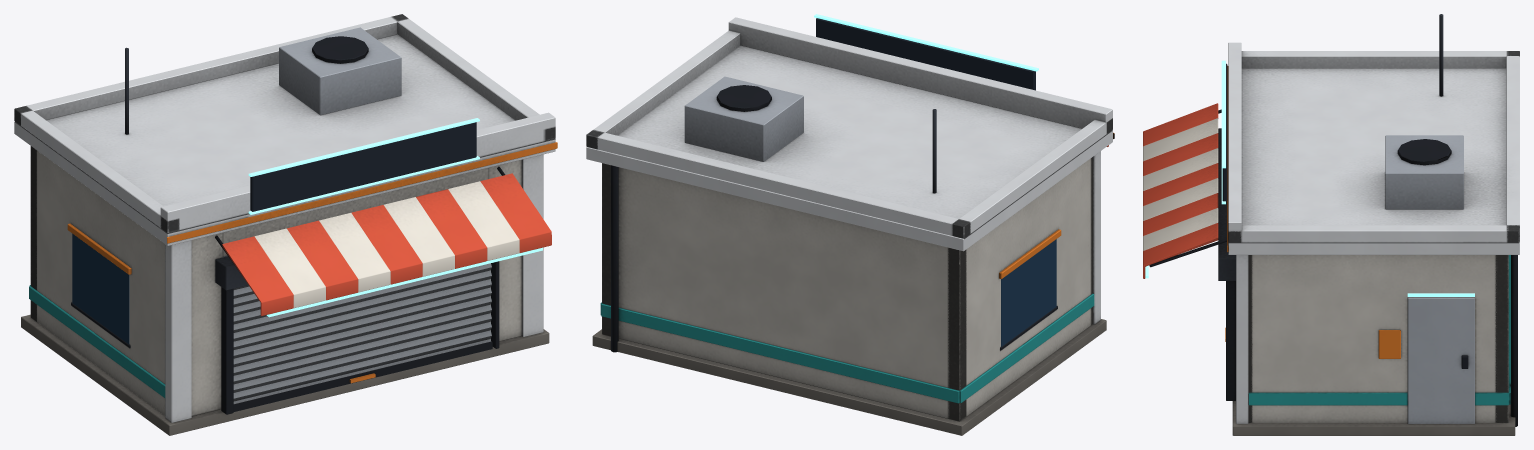
Rendered from Tienda.fbx.
3 views of the same model, side by side, from view 1: azimuth 30°, elevation 25°; view 2: azimuth 150°, elevation 25°; view 3: azimuth 270°, elevation 25° (orthographic). The views are drawn at different scales.
Visible parts, largest first — view 1: Tienda, Tienda_Persiana, Tienda_Cartel, Tienda_Cristal, Tienda_Neon; view 2: Tienda, Tienda_Cartel, Tienda_Cristal, Tienda_Neon; view 3: Tienda, Tienda_Neon, Tienda_Cartel.
Boxes of the visible parts, x1=… form: Tienda: x1=14, y1=14, x2=557, y2=435; Tienda_Persiana: x1=233, y1=263, x2=492, y2=411; Tienda_Cartel: x1=250, y1=122, x2=476, y2=211; Tienda_Cristal: x1=72, y1=233, x2=129, y2=344; Tienda_Neon: x1=248, y1=118, x2=542, y2=317; Tienda: x1=586, y1=17, x2=1114, y2=435; Tienda_Cartel: x1=816, y1=18, x2=1035, y2=90; Tienda_Cristal: x1=1001, y1=239, x2=1056, y2=346; Tienda_Neon: x1=814, y1=14, x2=1038, y2=71; Tienda: x1=1143, y1=14, x2=1519, y2=435; Tienda_Neon: x1=1145, y1=60, x2=1474, y2=296; Tienda_Cartel: x1=1222, y1=63, x2=1227, y2=201.
Size of the model in its own units: 5.35 by 3.81 by 4.7.
Materials: 5 (2 with a texture image).
